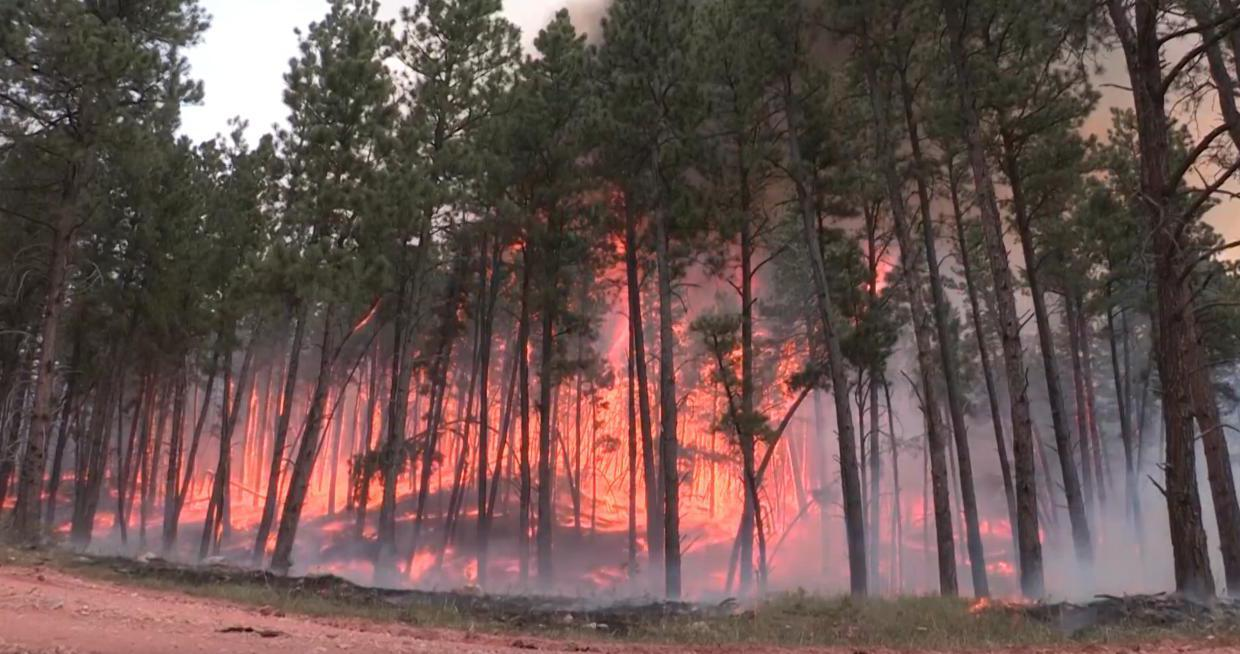Fire: (44, 326, 795, 552), (958, 504, 1048, 616)
